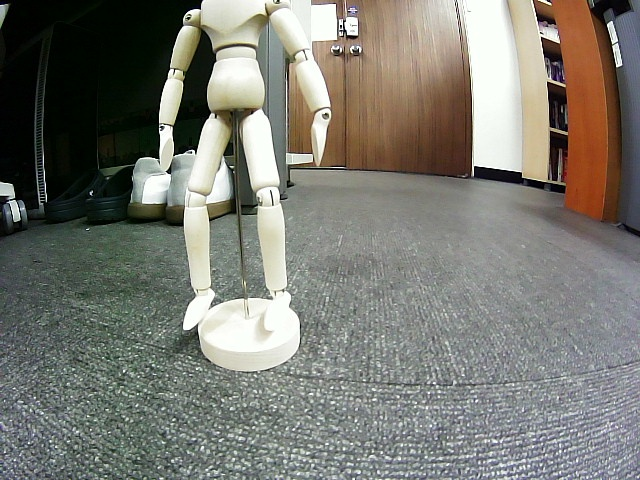person: (159, 1, 334, 332)
